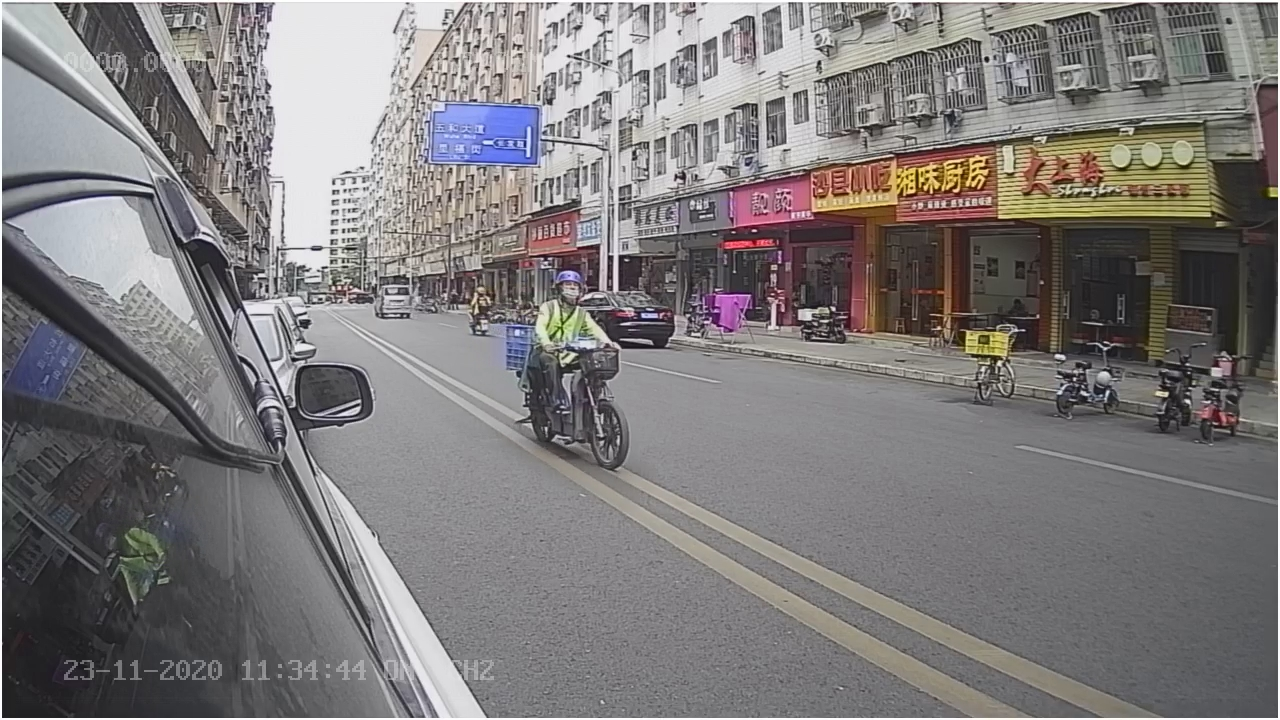person: (528, 266, 608, 354)
